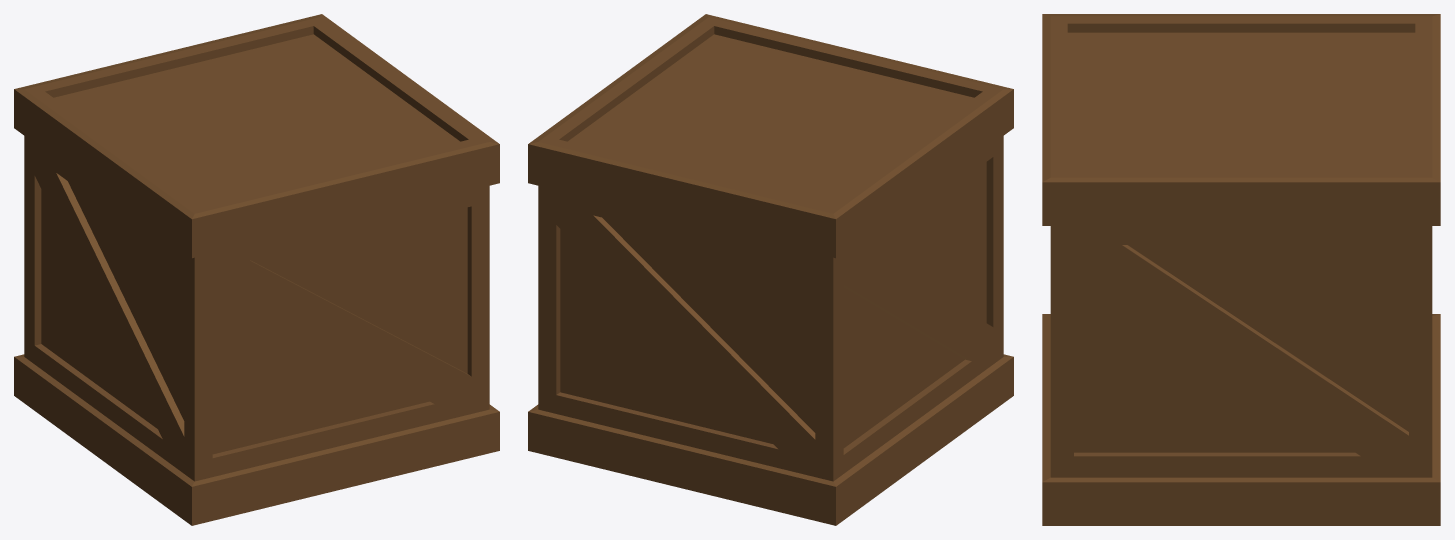
File: Crate.fbx
3 views of the same model, side by side, from view 1: azimuth 30°, elevation 25°; view 2: azimuth 150°, elevation 25°; view 3: azimuth 270°, elevation 25° (orthographic). The views are drawn at different scales.
Visible parts, largest first — view 1: Cube; view 2: Cube; view 3: Cube.
Part boxes in pixels (x1,y1,x2,y2): Cube: (14, 14, 499, 525); Cube: (528, 14, 1013, 525); Cube: (1042, 14, 1440, 525).
Size of the model in its own units: 2.09 by 2 by 2.09.
